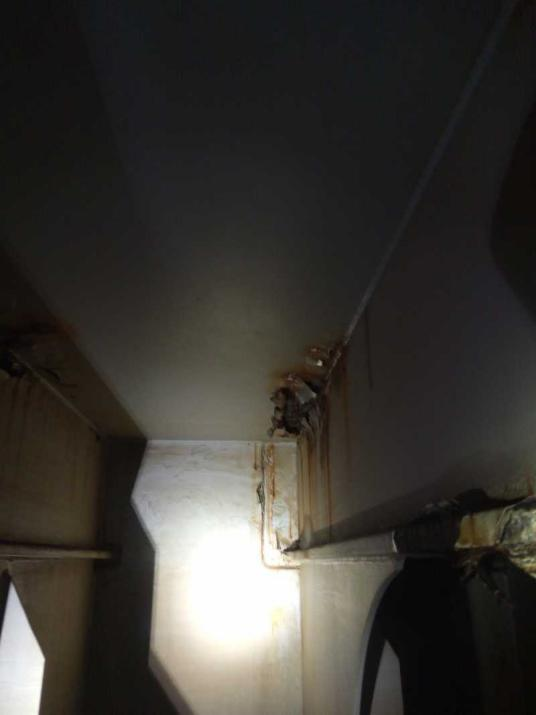corrosion: (245, 333, 339, 425), (286, 399, 347, 539), (355, 315, 390, 391), (245, 440, 282, 507)
